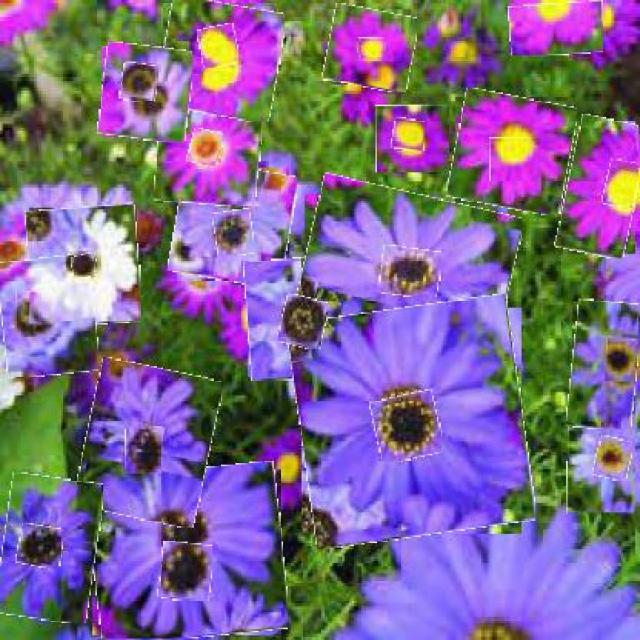Flower: (294, 302, 531, 543), (298, 184, 516, 362), (88, 465, 286, 639), (79, 363, 216, 525), (246, 256, 366, 381), (173, 164, 296, 285), (0, 475, 100, 623), (452, 93, 575, 213), (27, 206, 141, 326), (0, 255, 98, 378), (156, 96, 262, 207), (560, 117, 638, 258), (568, 300, 639, 431), (99, 44, 192, 141), (567, 402, 638, 516), (325, 6, 416, 91), (375, 105, 451, 174), (508, 2, 604, 56), (373, 393, 441, 462), (159, 542, 213, 602), (379, 246, 441, 297), (279, 296, 327, 350), (17, 525, 63, 568), (489, 137, 531, 181), (214, 210, 254, 256), (126, 427, 163, 476), (15, 291, 56, 335), (199, 26, 239, 69), (604, 160, 639, 209), (594, 438, 632, 481), (120, 63, 158, 103), (606, 339, 637, 382), (189, 129, 223, 166), (392, 119, 426, 152), (72, 254, 98, 278), (359, 37, 386, 60)
